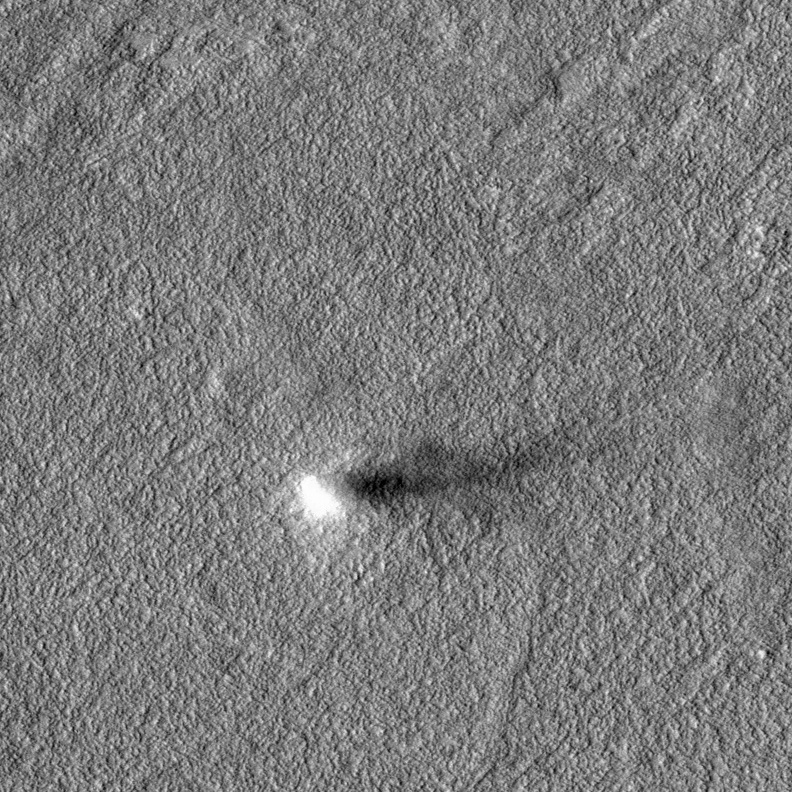dust_devil: (296, 436, 557, 525)
